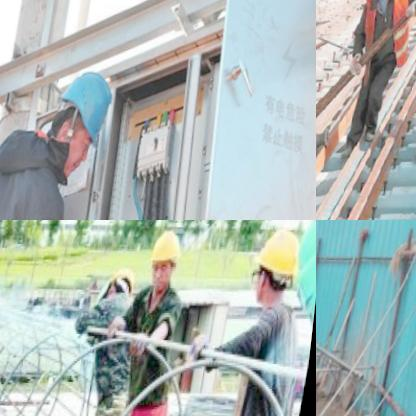helmet: (48, 63, 126, 172), (251, 225, 315, 320), (146, 226, 189, 302), (102, 262, 145, 318)
